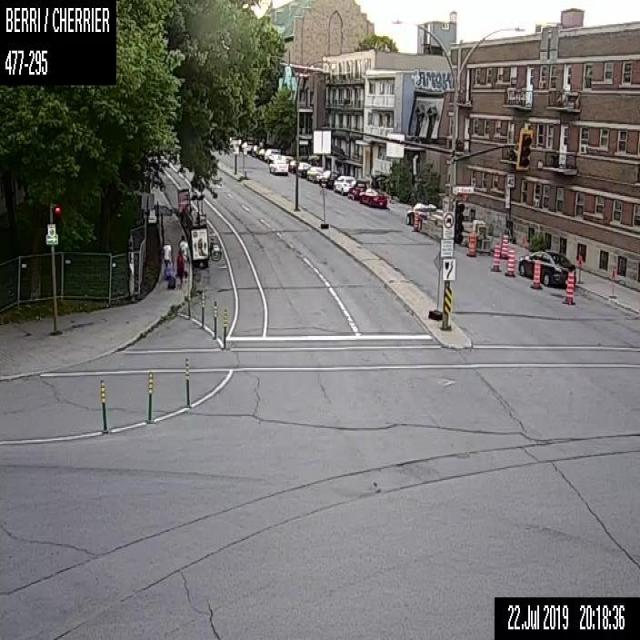construction: (428, 250, 442, 318), (99, 379, 107, 432), (564, 271, 574, 304), (147, 369, 152, 424), (608, 265, 616, 299), (185, 355, 190, 405), (574, 255, 582, 284), (532, 259, 540, 286), (507, 246, 514, 274), (493, 242, 500, 270), (222, 305, 226, 347), (200, 289, 204, 328), (468, 232, 475, 254), (501, 234, 507, 258), (186, 287, 190, 317), (213, 300, 216, 337), (413, 211, 418, 229)
pedestrian: (162, 240, 175, 288), (174, 247, 187, 286), (178, 234, 188, 261)
vehicle: (517, 250, 575, 286), (406, 202, 436, 225), (358, 187, 387, 208), (333, 174, 355, 193), (318, 169, 340, 187), (347, 181, 366, 199), (268, 158, 288, 174), (306, 165, 323, 181), (263, 148, 281, 162), (297, 162, 310, 176), (288, 160, 298, 172), (251, 144, 260, 156), (281, 155, 292, 163), (257, 148, 264, 159)
